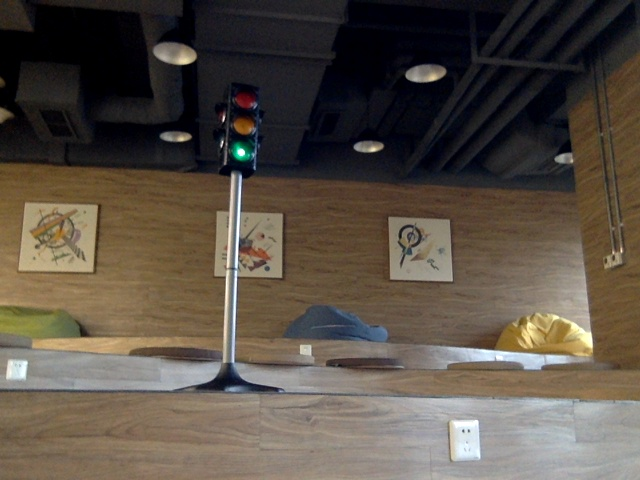green: (226, 87, 259, 165)
